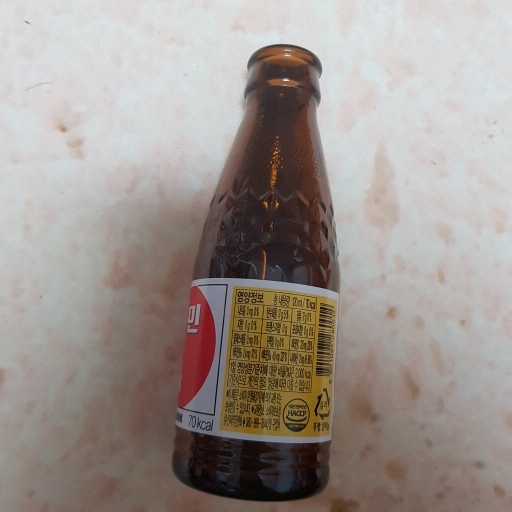Glass_3: (165, 38, 336, 500)
